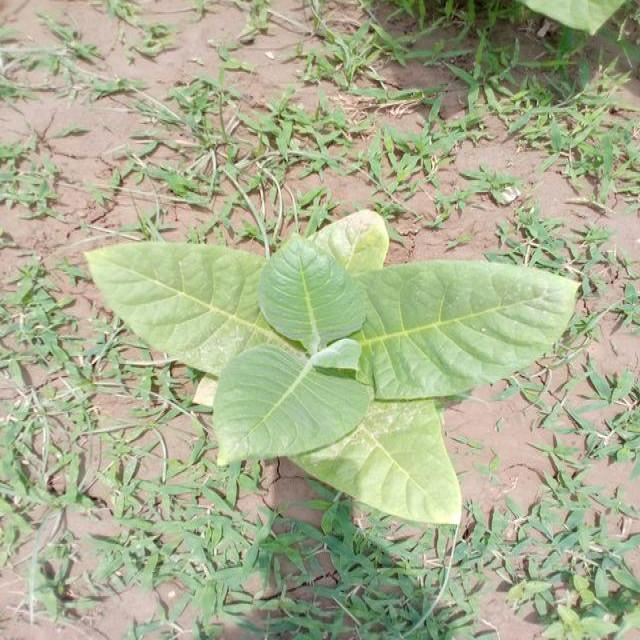crop: (79, 210, 575, 530)
